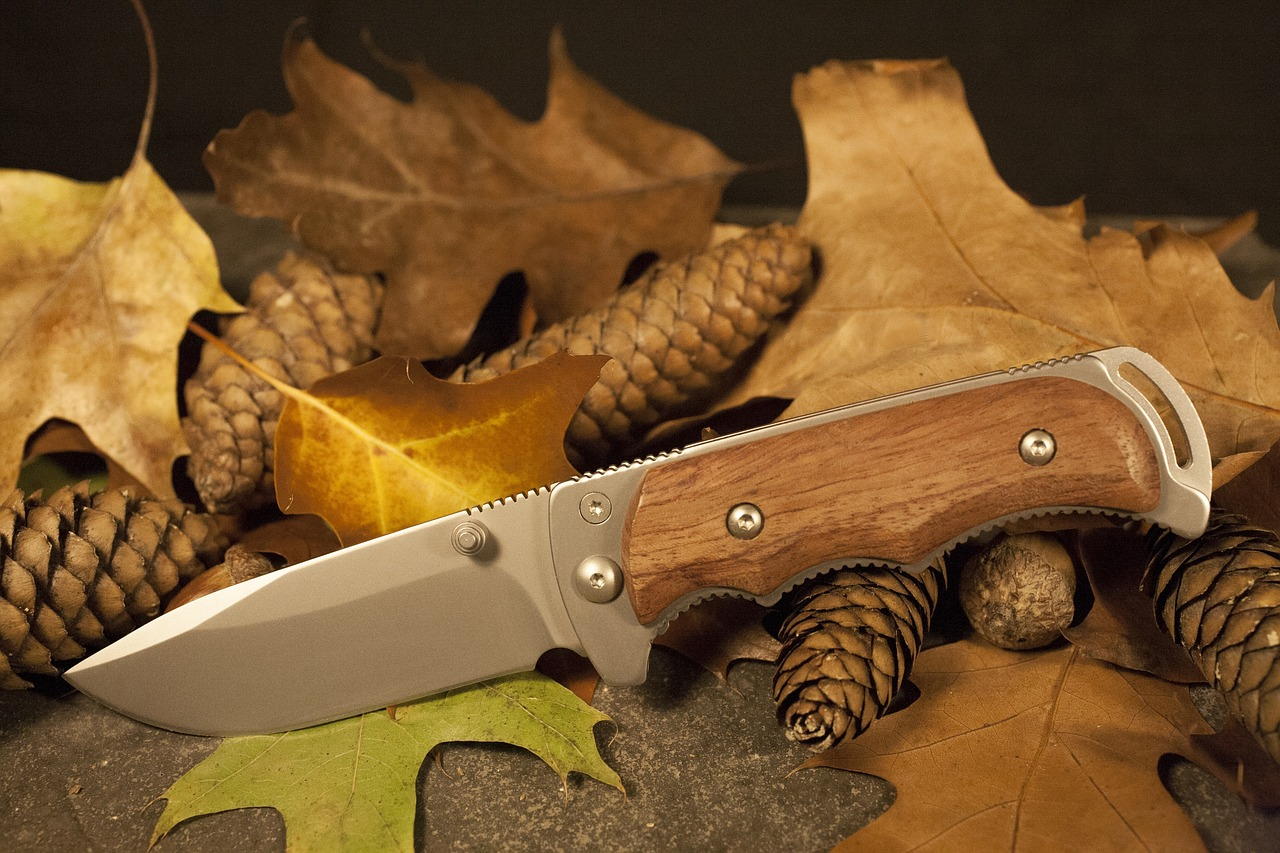knife: (55, 340, 1218, 744)
